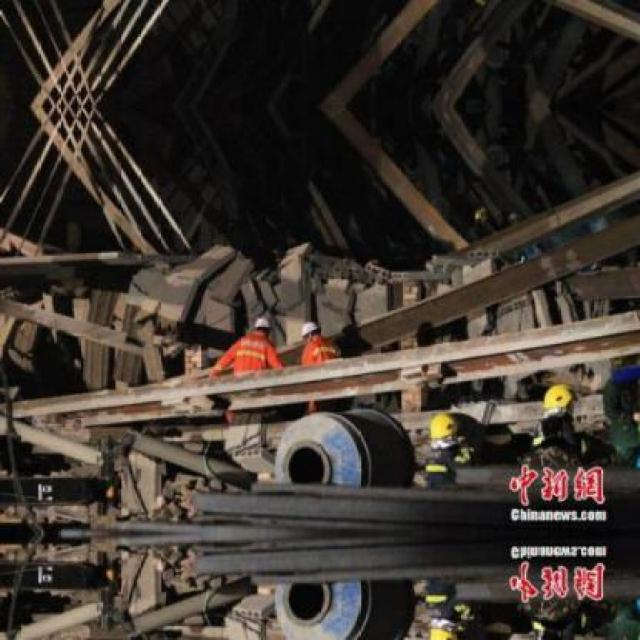helmet: (540, 384, 577, 415), (428, 415, 462, 435), (292, 319, 314, 338), (252, 315, 270, 330)
